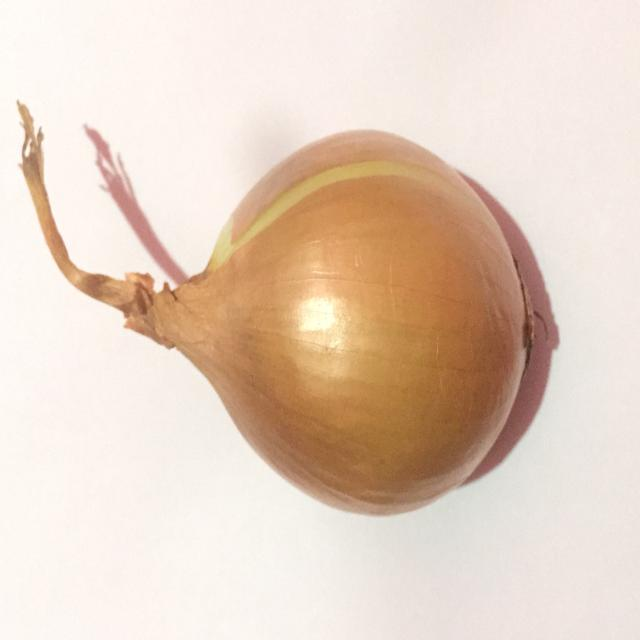onion: (125, 106, 535, 518)
